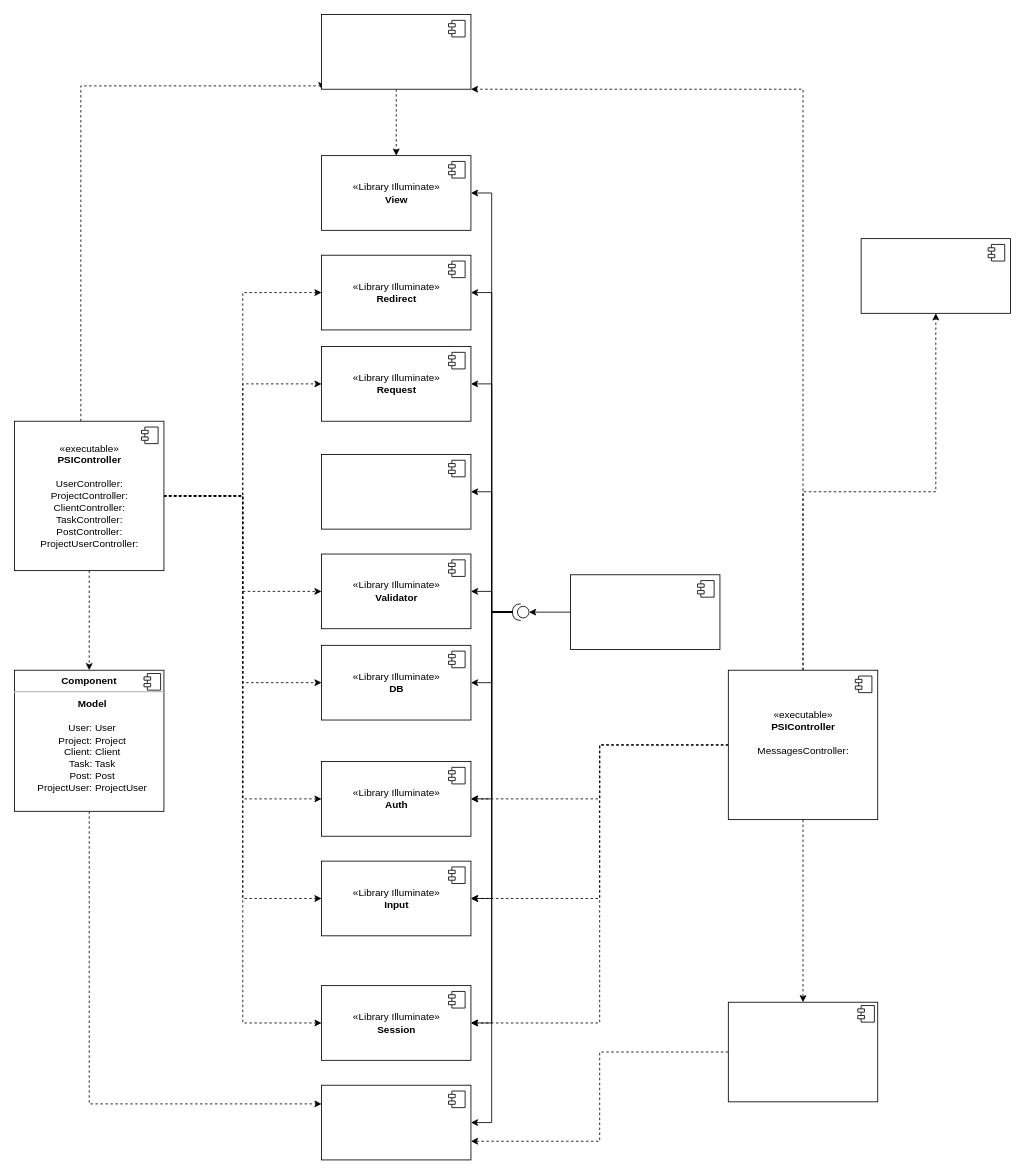
This 1025x1174 diagram has some shape labels left out. Here are the shapes that lost their labels. From the top down, the box of each, then its label:
(321, 14, 471, 89): «file» View resources/views
(860, 238, 1011, 313): «Library cmgymr» laravel-messenger
(321, 454, 471, 529): «Library Illuminate» Hash
(570, 574, 720, 649): «Library » Illuminate
(727, 1001, 878, 1102): Component Model Message: Message Thread: Thread Participants: Participants
(321, 1084, 471, 1160): «Library Illuminate» Model
